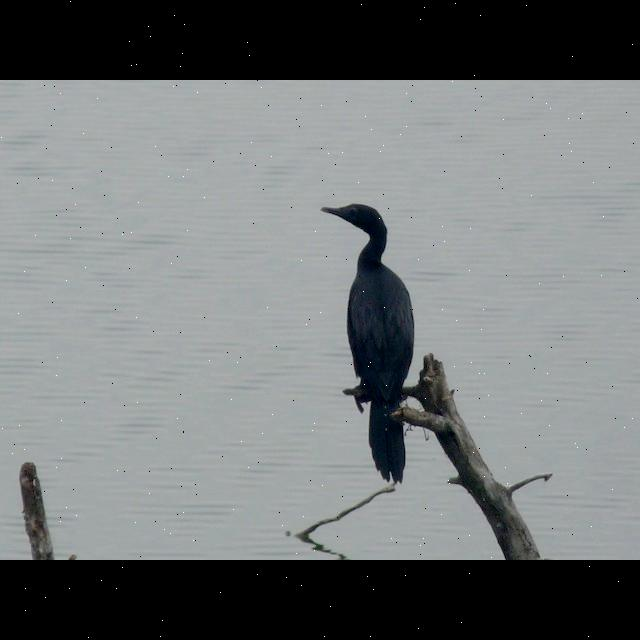cormorant: (312, 196, 424, 486)
